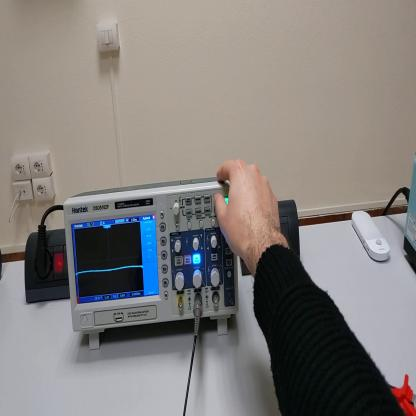hand: (213, 158, 284, 266)
oscilloscope: (66, 178, 241, 350)
pliers: (389, 373, 415, 415)
socket: (25, 231, 71, 304)
welder station: (404, 155, 416, 270)
